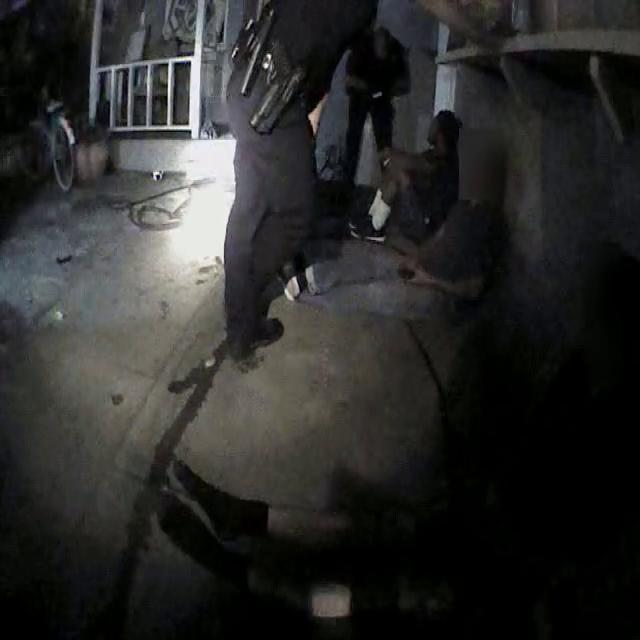gun: (244, 22, 313, 152)
